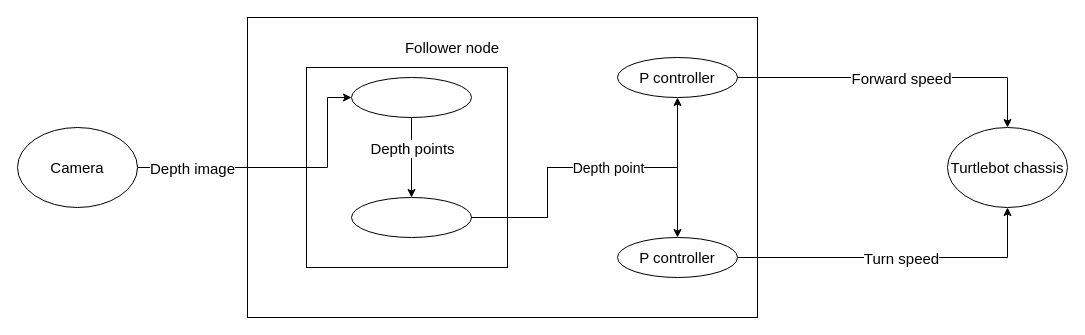
The diagram is 1085 pixels wide and 335 high, and some of its shapes have lost their labels. Here are the shapes that lost their labels. From the top down, the centre of each, then its label:
At point 411,97: "Depth point finder".
At point 411,217: "Chooser".
